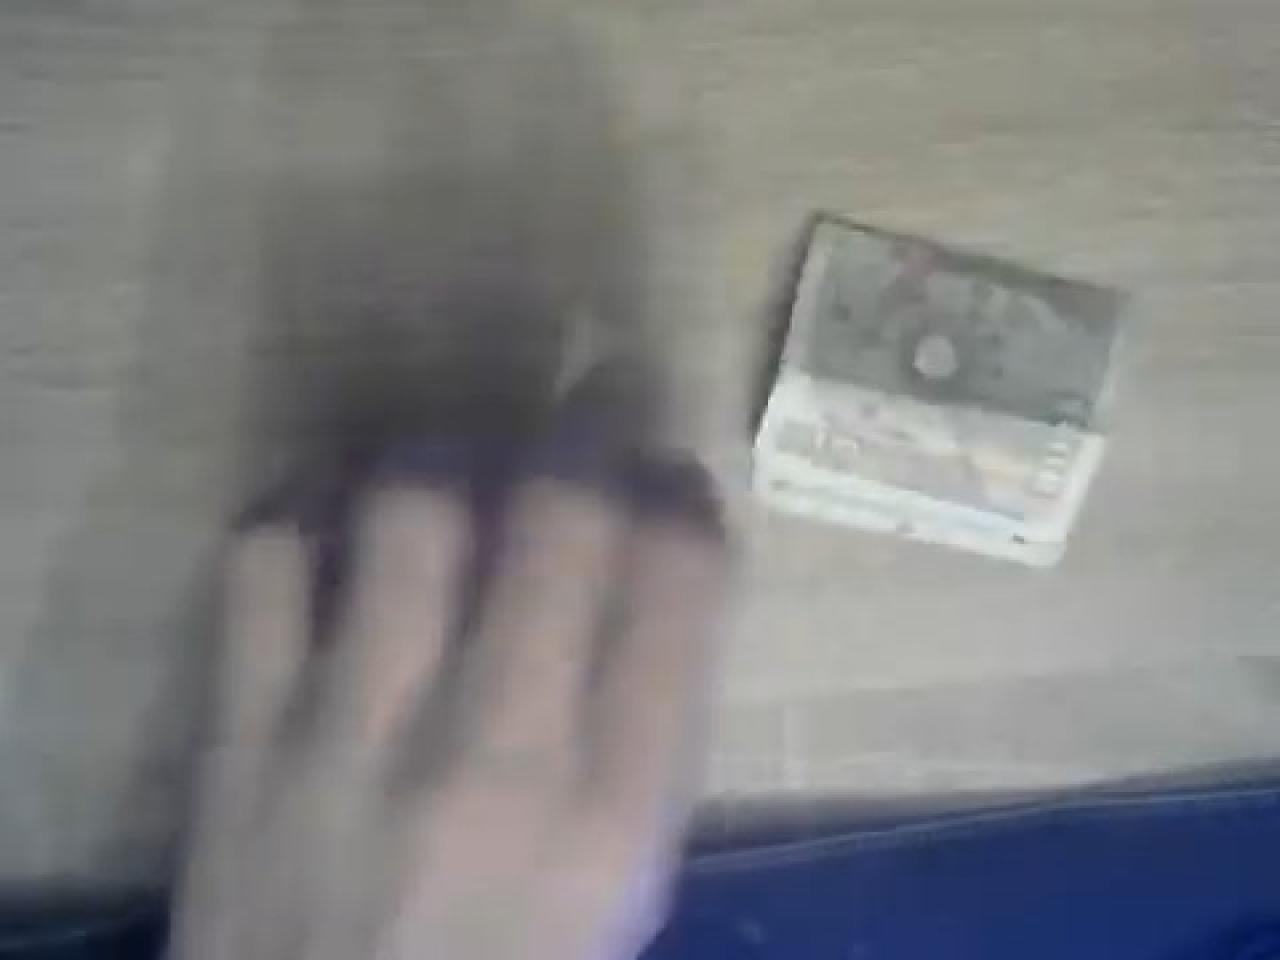10leva: (747, 216, 1131, 573)
